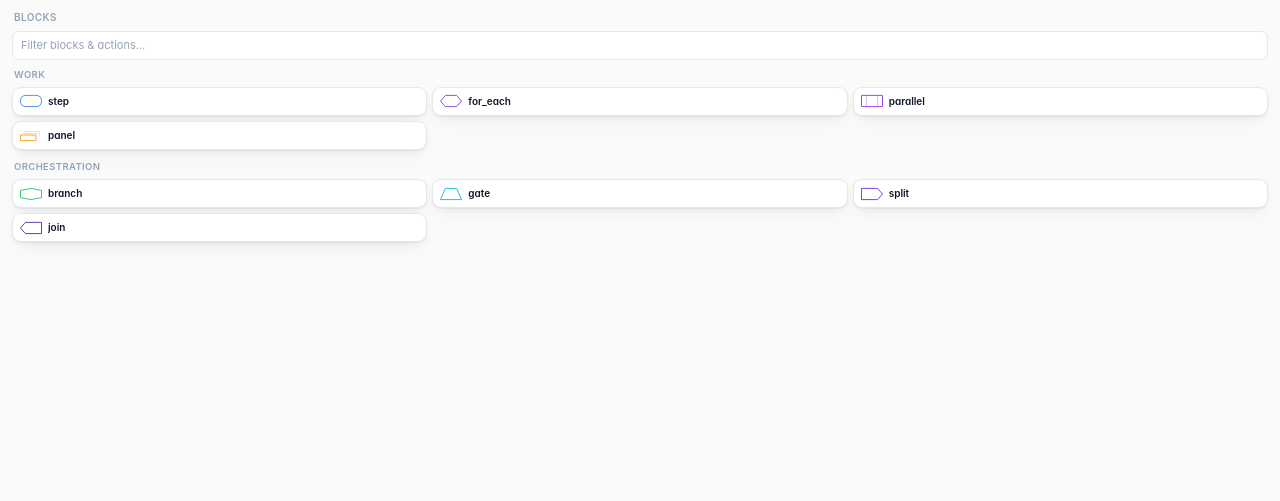
Test case: NodePalette › variant="rail" (Task 1: inspector-rail dock) › the detail card shows the block blurb, `*`-marked required fields, and a YAML example
Click the button with aria-label "Add step node" at (31, 101), box 12,87 -> 427,116
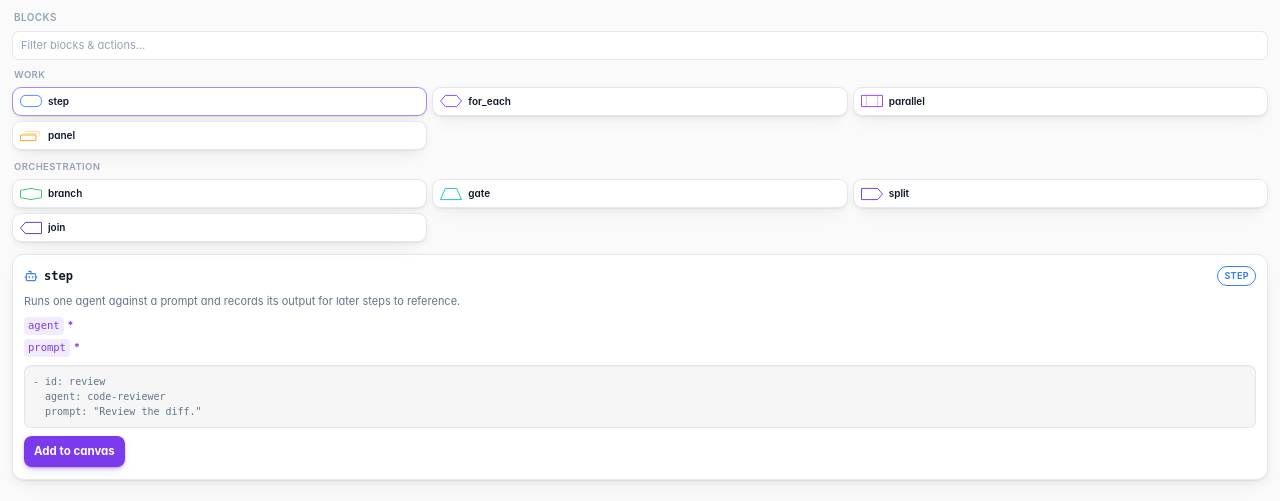
Result: the element named "step details" shows "Runs one agent" at 24,294 -> 460,308
Result: the text "agent" is shown at 24,317 -> 64,335
Result: the 1st text with class "wfx-detail-req-star" is shown at 68,318 -> 74,334
